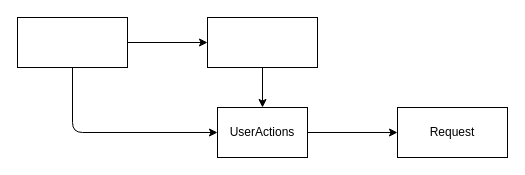
The diagram is 525 pixels wide and 175 high, and some of its shapes have lost their labels. Here are the shapes that lost their labels. From the top down, the centre of each, then its label:
pixel 72 42: User
pixel 262 42: SystemFlow
